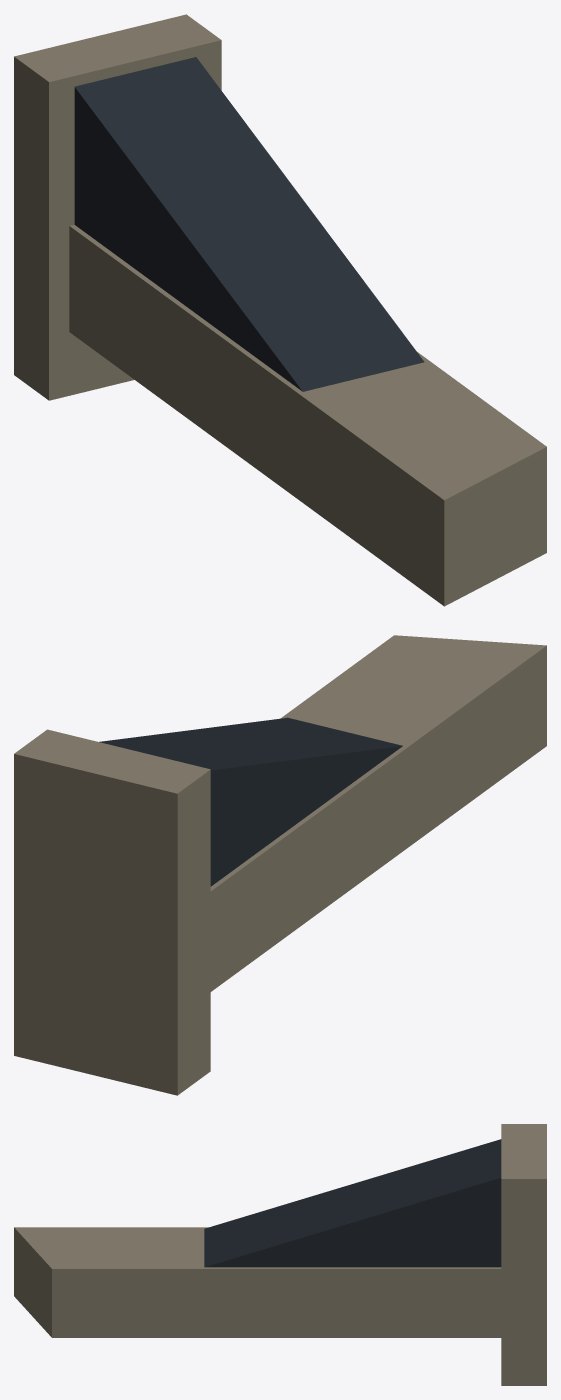
The model's file is SM_AEON_Buttress_7m.obj.
The picture shows the model from 3 angles, top to bottom: view 1: azimuth 30°, elevation 25°; view 2: azimuth 150°, elevation 25°; view 3: azimuth 270°, elevation 25°; orthographic projection. The views are drawn at different scales.
Parts seen in each view (by area): view 1: SM_AEON_Buttress_7m; view 2: SM_AEON_Buttress_7m; view 3: SM_AEON_Buttress_7m.
Boxes of the visible parts, <box> form: SM_AEON_Buttress_7m: <box>14,14,546,606</box>; SM_AEON_Buttress_7m: <box>14,635,546,1095</box>; SM_AEON_Buttress_7m: <box>14,1124,546,1385</box>.
Bounding box in the file's own units: 170 × 300 × 700.
